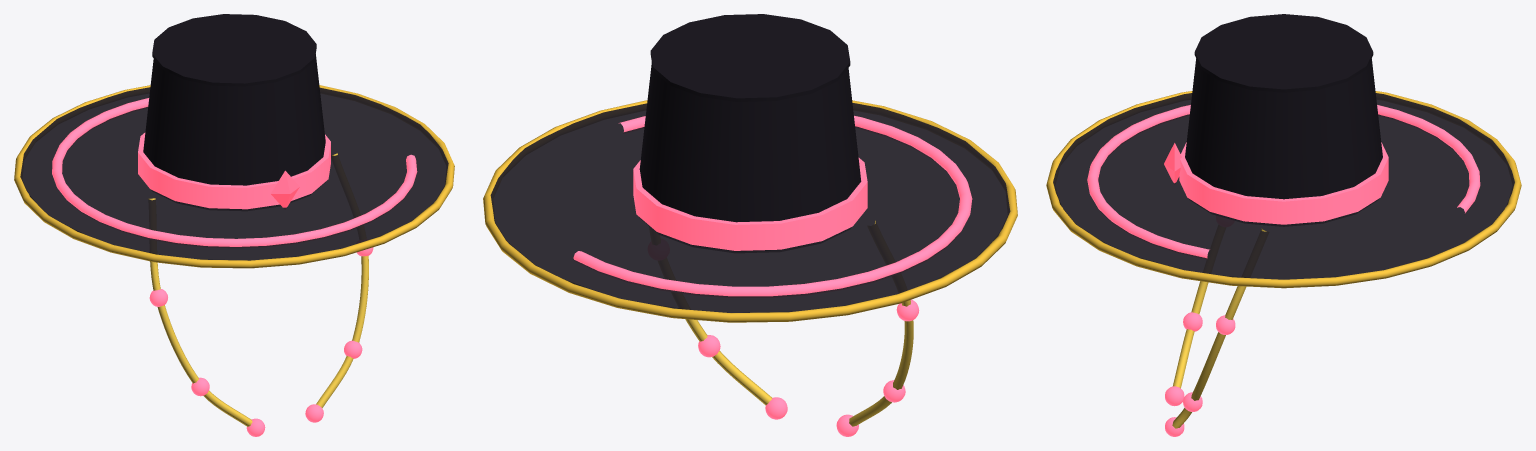
File: hat_eqko4.glb
The picture shows the model from 3 angles, left to right: view 1: azimuth 30°, elevation 25°; view 2: azimuth 150°, elevation 25°; view 3: azimuth 270°, elevation 25°; orthographic projection. The views are drawn at different scales.
Bounding box in the file's own units: 3.78 × 3.24 × 3.78.
